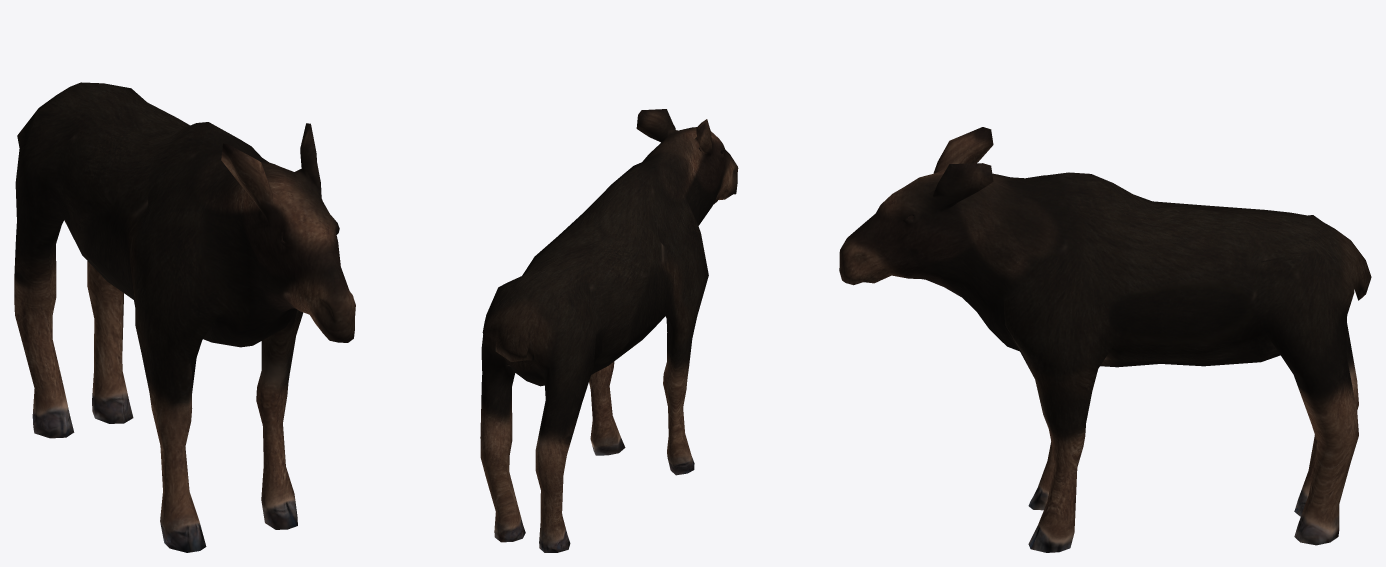
The model's file is moose.FBX.
3 views of the same model, side by side, from view 1: azimuth 30°, elevation 25°; view 2: azimuth 150°, elevation 25°; view 3: azimuth 270°, elevation 25° (orthographic). The views are drawn at different scales.
Parts seen in each view (by area): view 1: Plane003; view 2: Plane003; view 3: Plane003.
Part boxes in pixels (x1=…): Plane003: x1=14, y1=82, x2=355, y2=552; Plane003: x1=480, y1=109, x2=738, y2=552; Plane003: x1=839, y1=127, x2=1371, y2=552.
Bounding box in the file's own units: 149 × 306 × 318.
